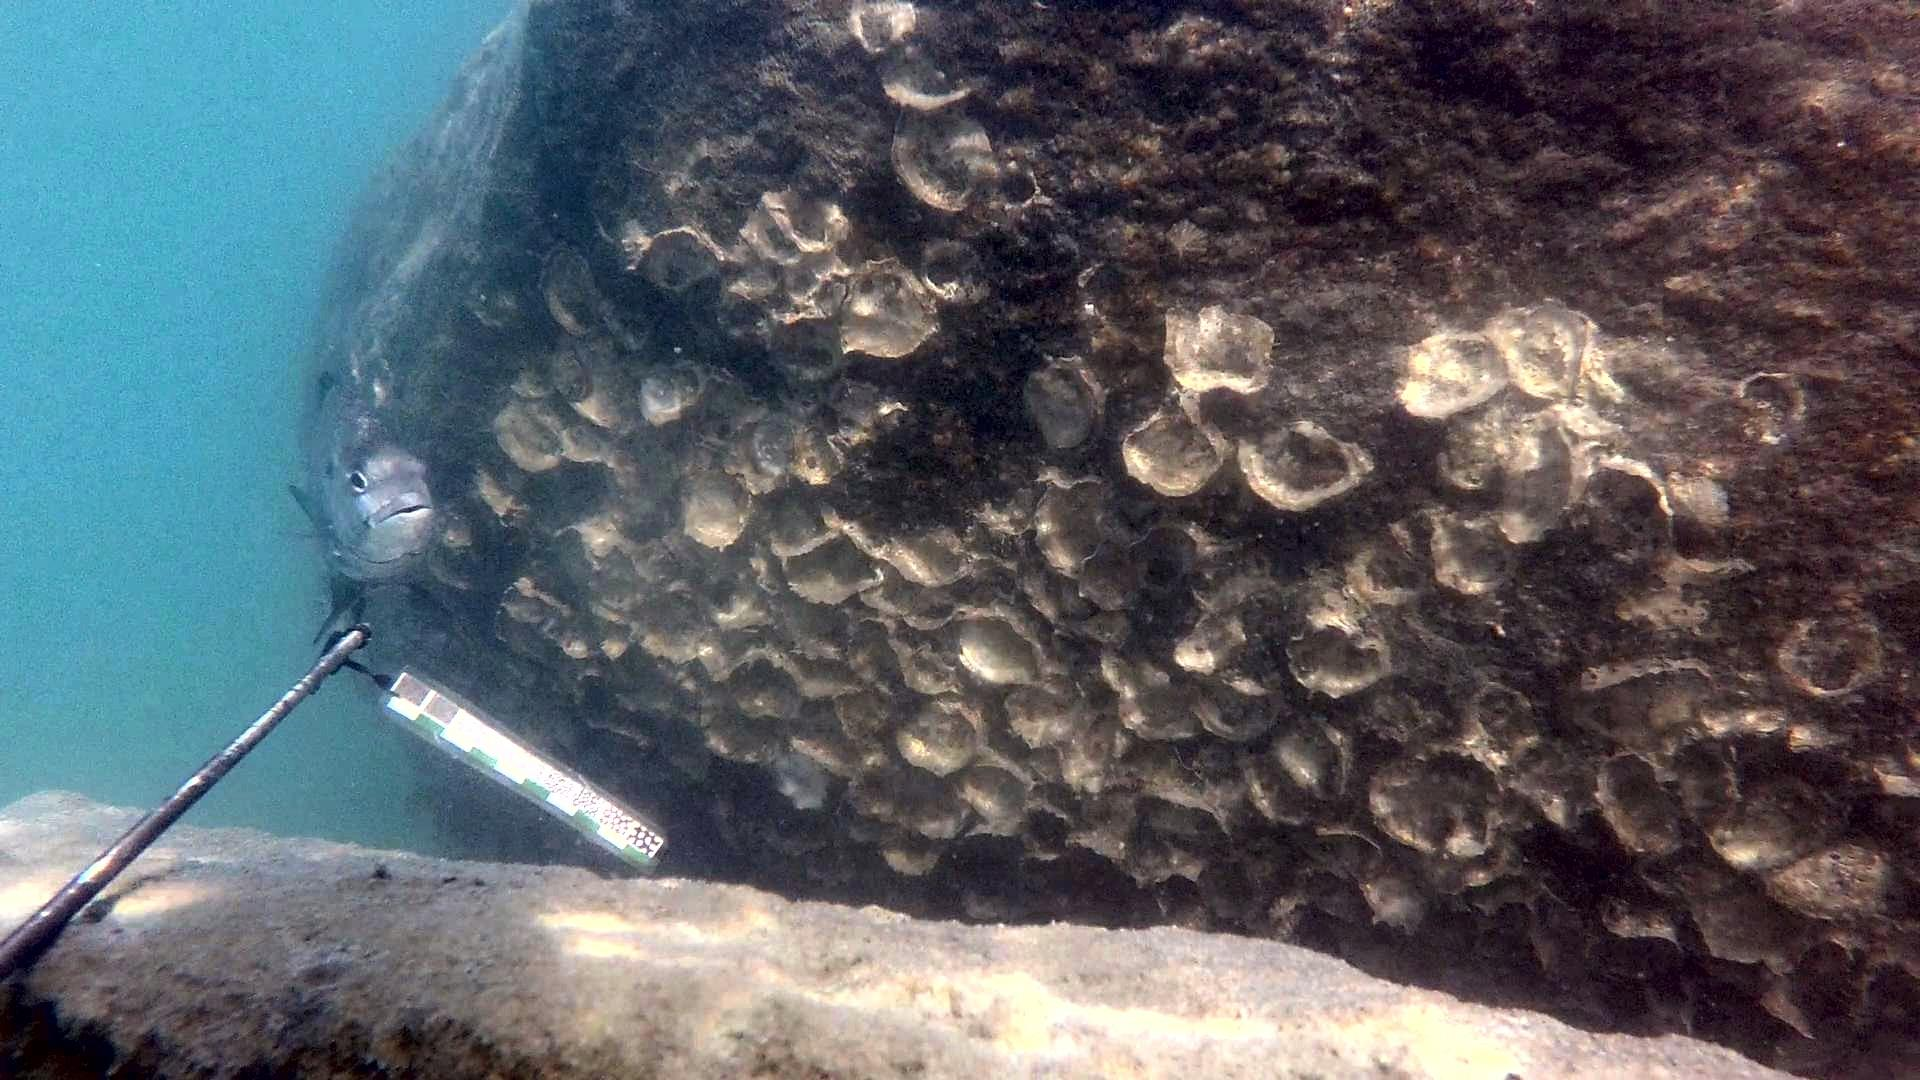acanthopagrus palmaris: (276, 351, 488, 666)
